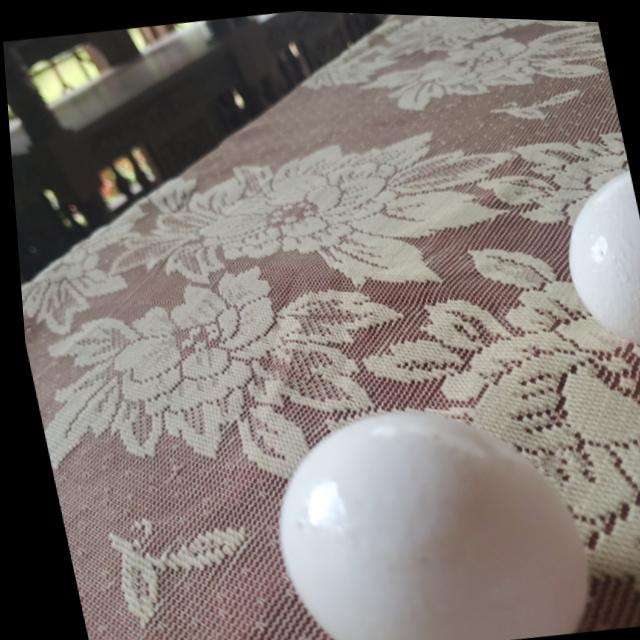egg: (245, 382, 594, 640), (546, 167, 640, 354)
